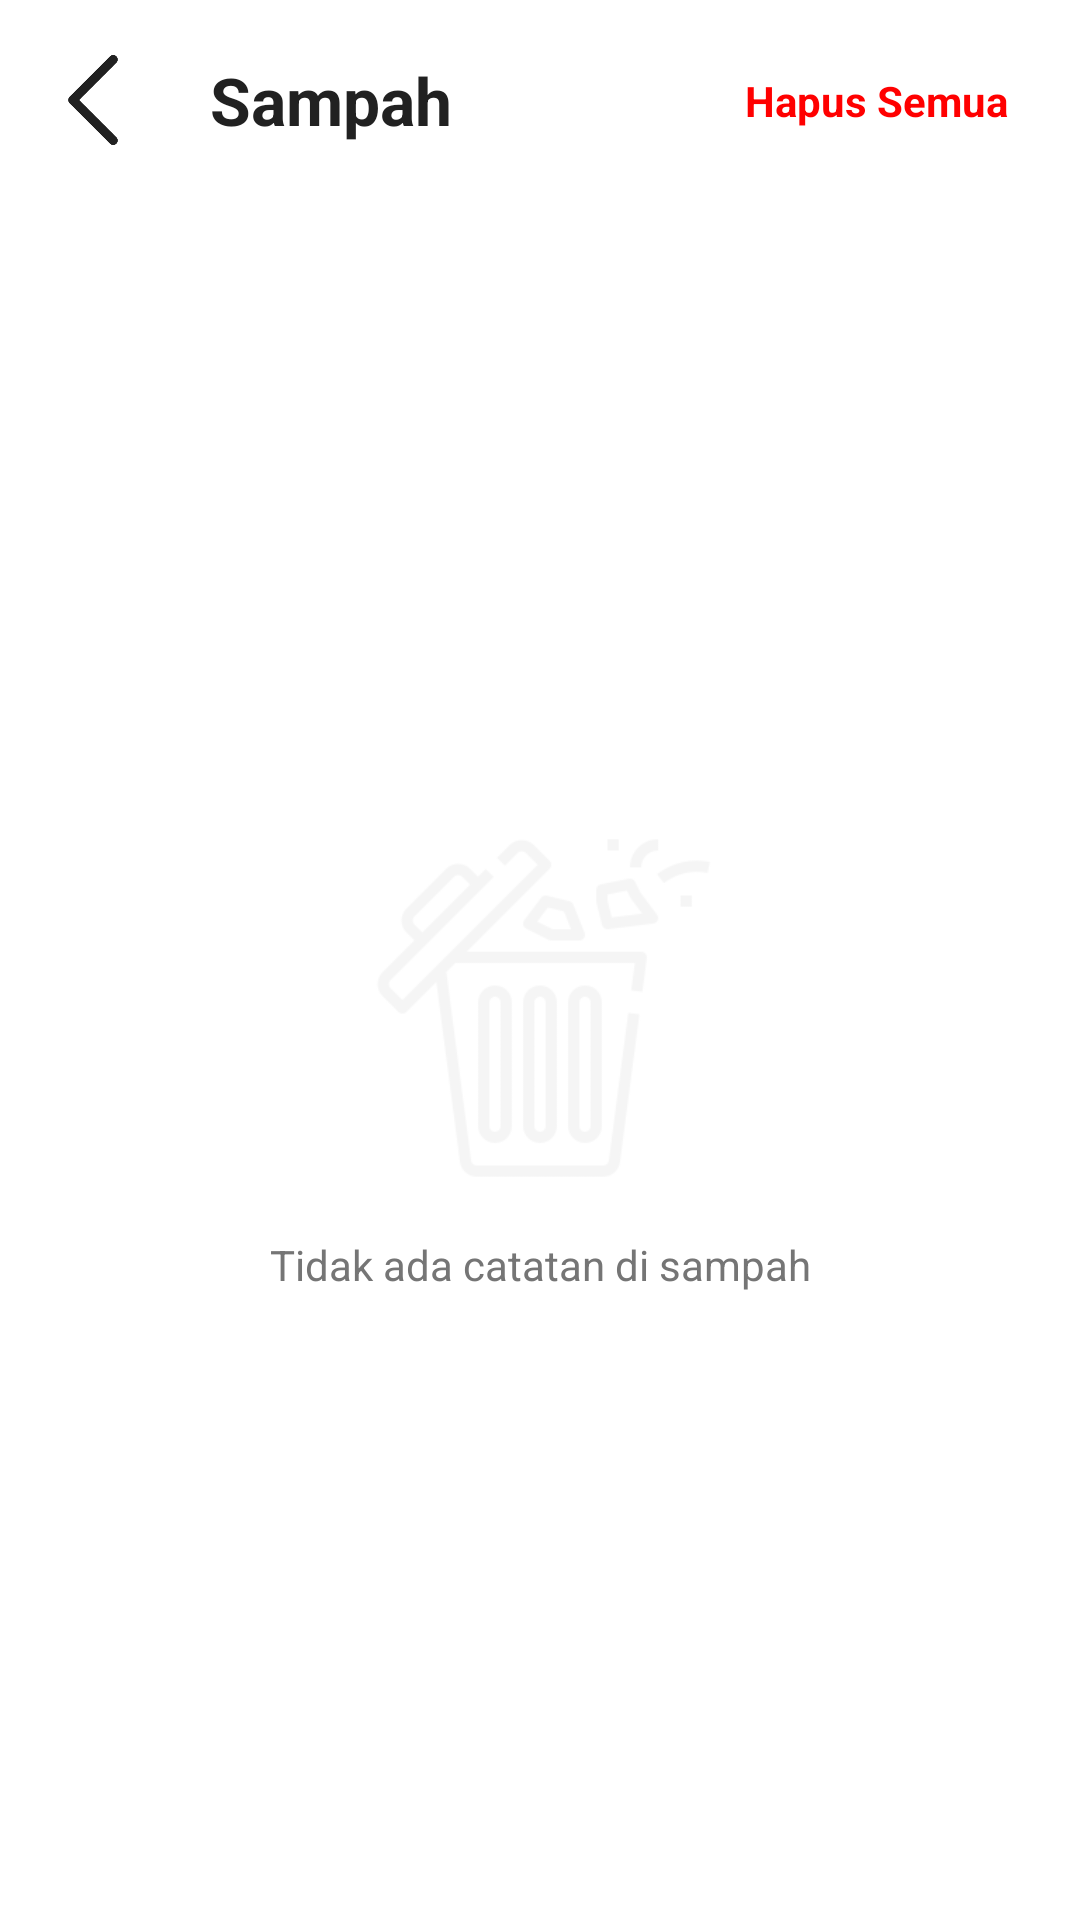

Point at icon controls on the screen. Image size 1080px×1920px, points as point (x, y).
back: point (93, 100)
